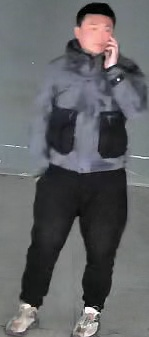phone: (76, 1, 146, 124)
